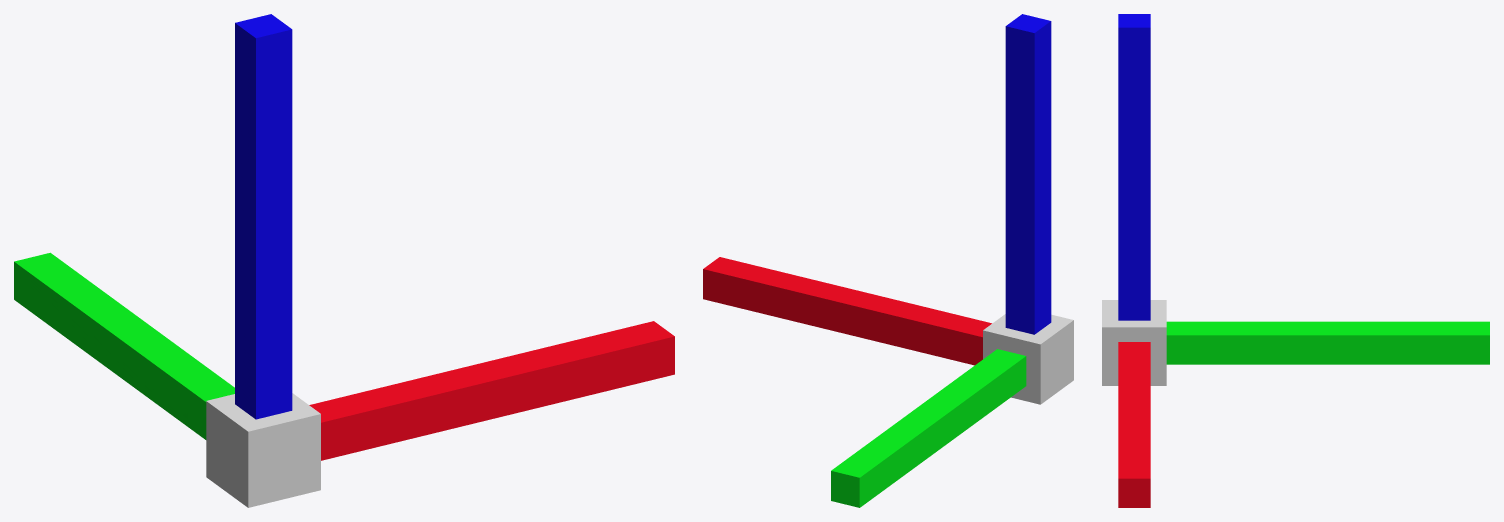
File: Compass.glb
3 renders of one model, left to right at view 1: azimuth 30°, elevation 25°; view 2: azimuth 150°, elevation 25°; view 3: azimuth 270°, elevation 25°, orthographic. The views are drawn at different scales.
Parts seen in each view (by area): view 1: +Z, +X, +Y, Center; view 2: +Z, +X, +Y, Center; view 3: +Y, +Z, +X, Center.
Boxes of the visible parts, bbox=[...] form: +Z: bbox=[235, 14, 292, 419]; +X: bbox=[309, 321, 674, 460]; +Y: bbox=[14, 252, 234, 439]; Center: bbox=[206, 393, 320, 507]; +Z: bbox=[1005, 14, 1051, 334]; +X: bbox=[703, 257, 991, 365]; +Y: bbox=[831, 349, 1026, 507]; Center: bbox=[983, 314, 1073, 404]; +Y: bbox=[1166, 321, 1489, 364]; +Z: bbox=[1118, 14, 1150, 320]; +X: bbox=[1118, 342, 1150, 507]; Center: bbox=[1102, 300, 1166, 385].
Bounding box in the file's own units: 6 × 6 × 6.
